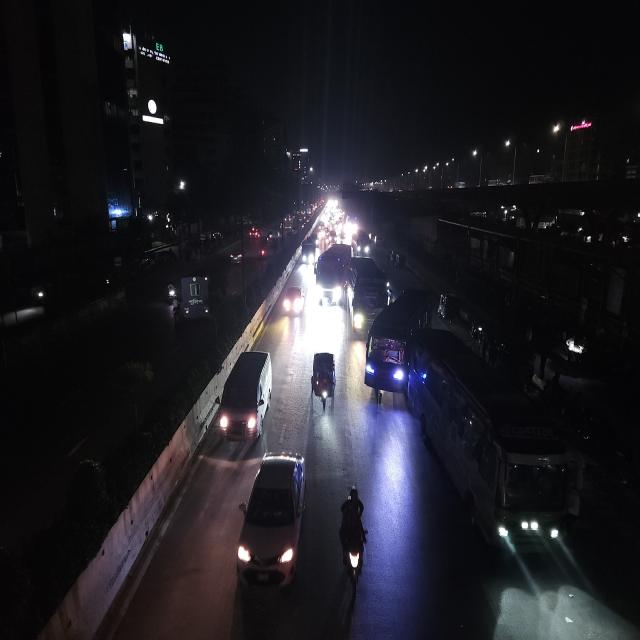bus: (412, 323, 578, 556), (362, 288, 432, 405), (345, 254, 391, 338), (314, 241, 350, 311), (355, 231, 371, 256)
car: (235, 449, 309, 595), (217, 347, 274, 446), (281, 273, 306, 322), (229, 248, 245, 265)
cng: (306, 349, 339, 415), (437, 289, 461, 327)
motorcycle: (334, 481, 371, 598), (164, 280, 178, 304), (259, 243, 267, 261)
pickup_van: (302, 239, 316, 265)
truck: (182, 270, 224, 320)
